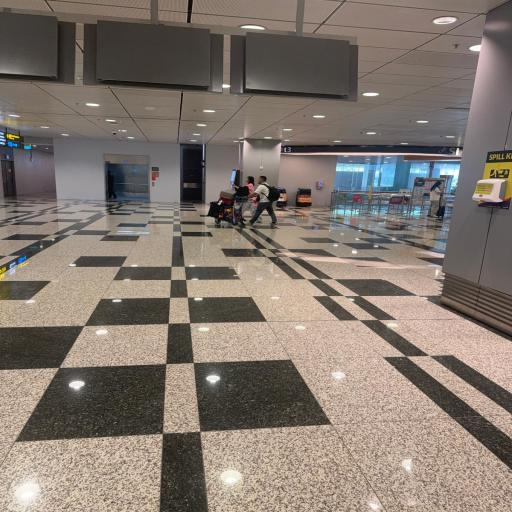person_left: (234, 176, 256, 226)
person_with_luggage_left: (206, 178, 280, 228)
